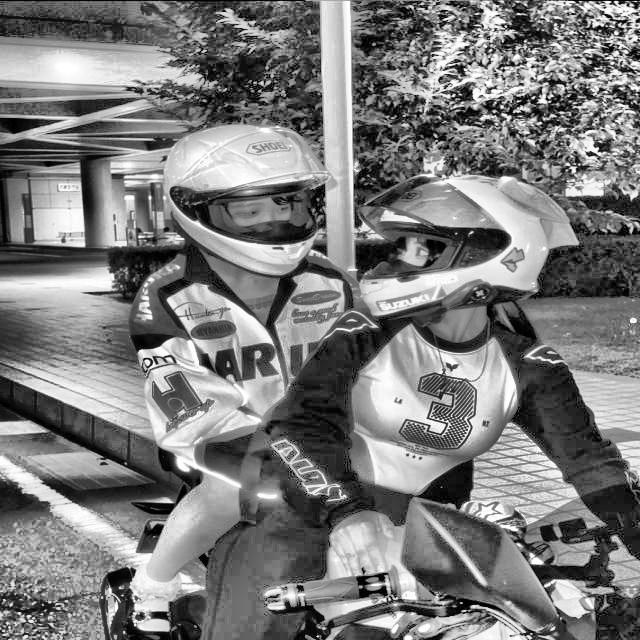Helmet: (354, 168, 558, 328), (160, 120, 336, 282)
